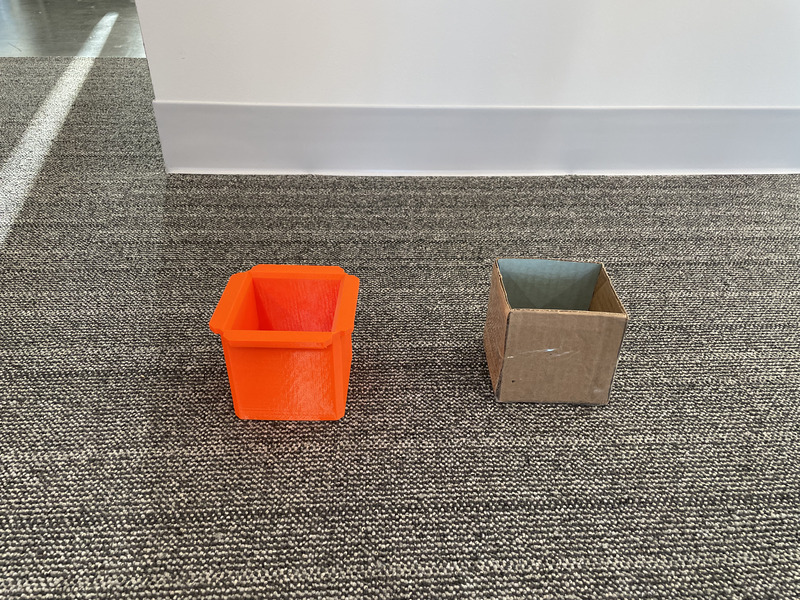payload1: (202, 259, 369, 431)
payload3: (481, 247, 637, 420)
